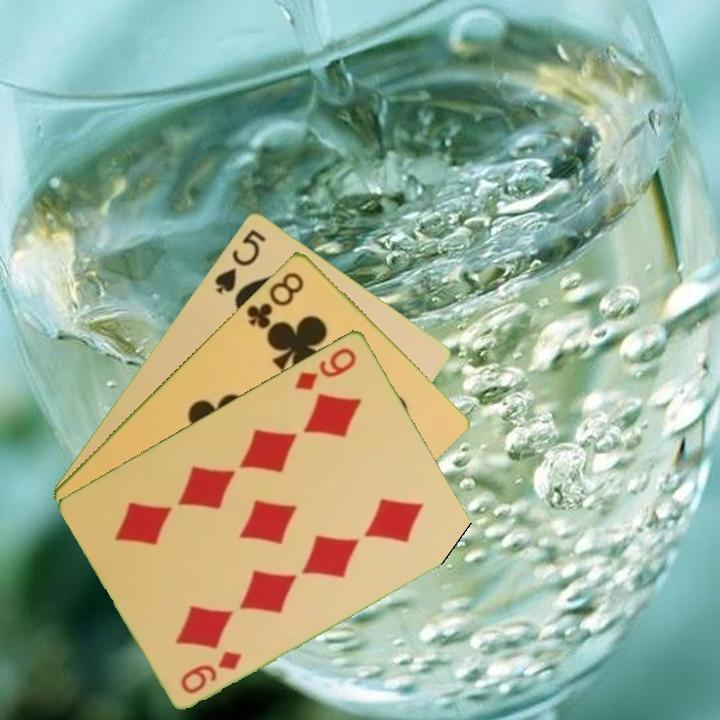5s: (210, 224, 269, 296)
8c: (243, 268, 307, 332)
9d: (176, 646, 245, 697), (291, 343, 360, 393)
